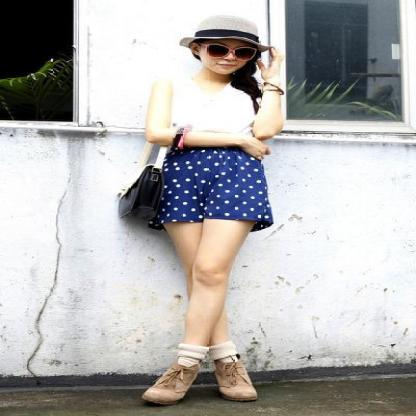bag: (119, 133, 184, 231)
hat: (180, 15, 267, 58)
shirt: (171, 70, 261, 132)
shoe: (143, 351, 256, 401)
skirt: (160, 141, 273, 224)
